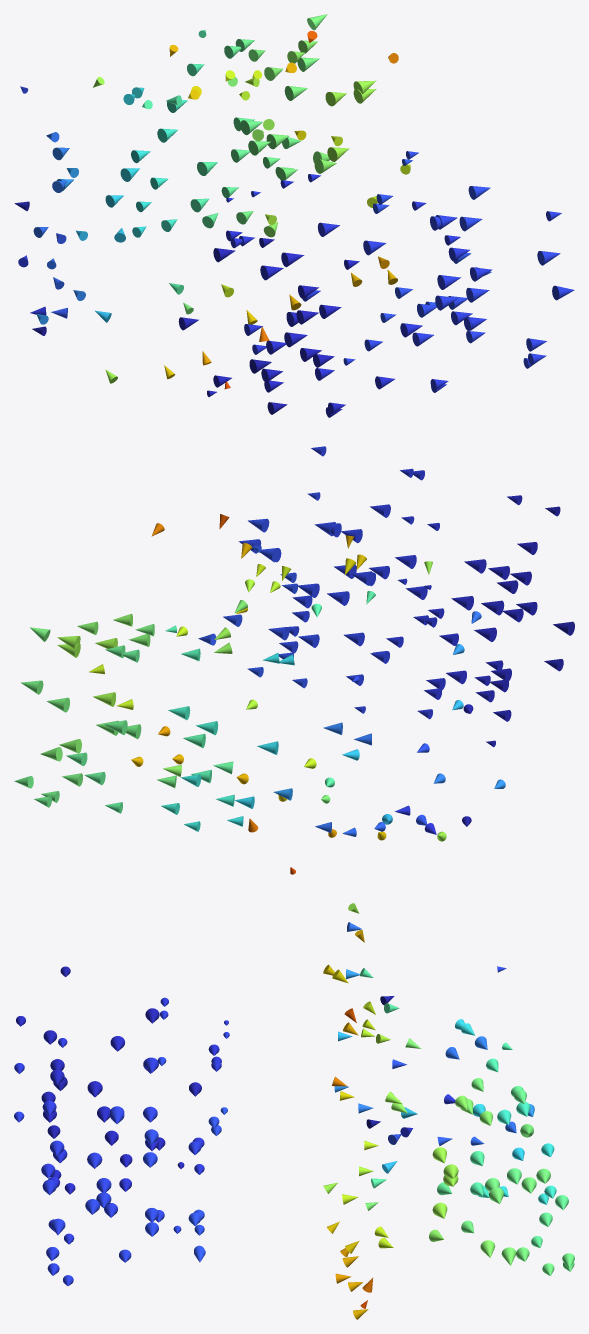
File: LineasCorrienteN2-H2O_mh2-6.88_V-1.glb
The picture shows the model from 3 angles, top to bottom: view 1: azimuth 30°, elevation 25°; view 2: azimuth 150°, elevation 25°; view 3: azimuth 270°, elevation 25°; orthographic projection. The views are drawn at different scales.
Bounding box in the file's own units: 0.000955 × 0.000822 × 0.00119.
Materials: 2 (2 with a texture image).
